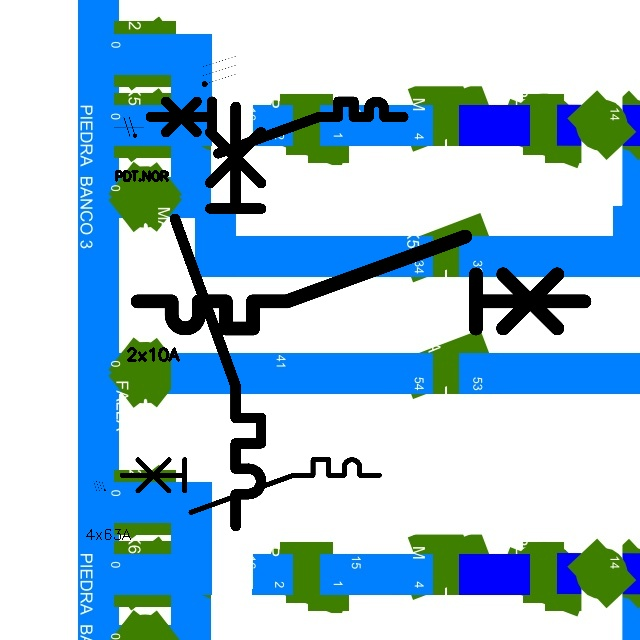interruptor_termomagnetico: (126, 225, 595, 340), (164, 95, 272, 536), (115, 453, 385, 519), (144, 95, 409, 160)
